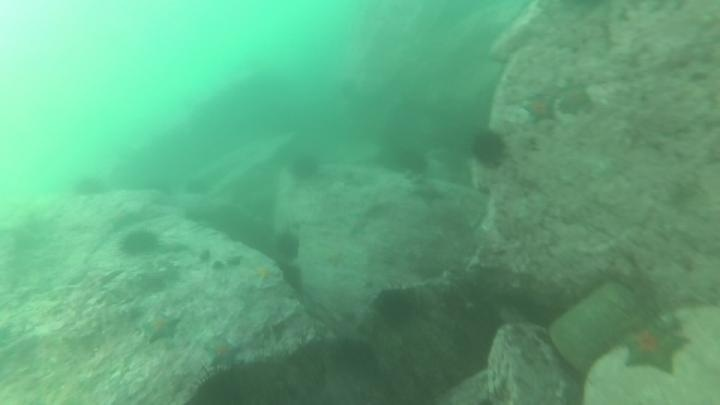echinus: (189, 365, 253, 405), (372, 286, 420, 330), (330, 336, 379, 379), (468, 127, 509, 170), (386, 144, 431, 177), (118, 227, 161, 259), (287, 151, 323, 184), (71, 173, 109, 201), (272, 230, 303, 264), (277, 261, 306, 292)
starfish: (618, 317, 691, 379), (201, 332, 244, 370), (138, 310, 183, 345), (555, 83, 596, 119), (520, 91, 560, 126), (246, 257, 282, 290), (408, 180, 450, 208), (105, 207, 141, 234)
